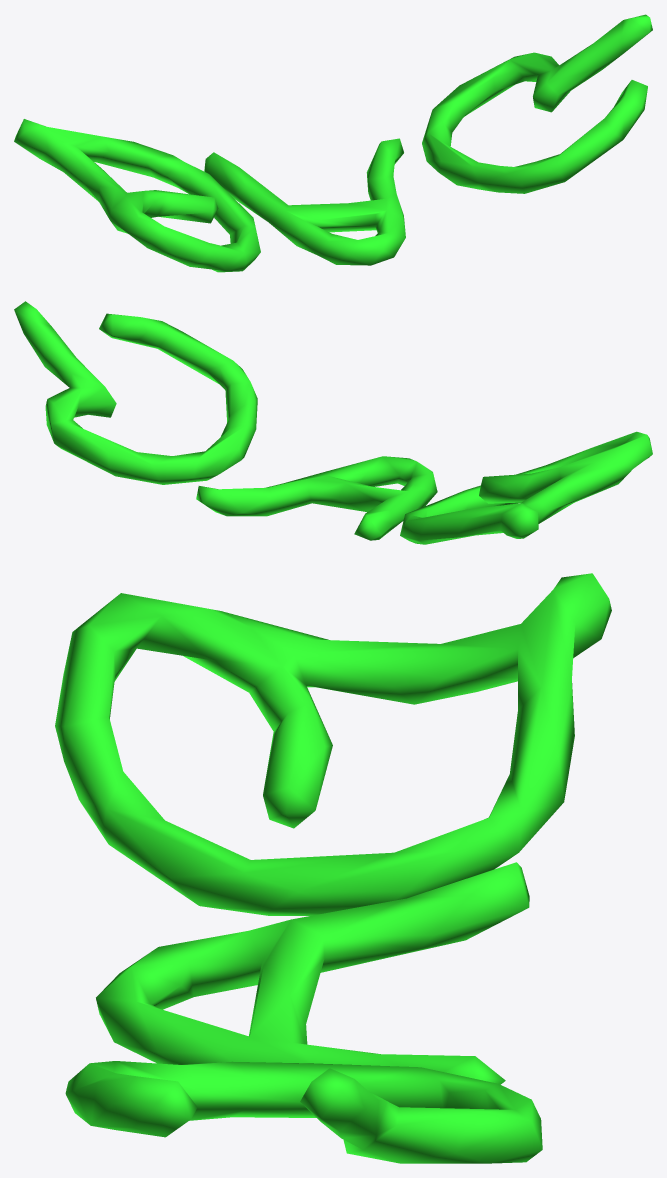
File: Dag.obj
3 renders of one model, top to bottom at view 1: azimuth 30°, elevation 25°; view 2: azimuth 150°, elevation 25°; view 3: azimuth 270°, elevation 25°, orthographic. The views are drawn at different scales.
Parts seen in each view (by area): view 1: Dag; view 2: Dag; view 3: Dag.
Boxes of the visible parts, x1,y1,x2,y2 form: Dag: [14, 14, 652, 272]; Dag: [14, 301, 652, 544]; Dag: [55, 573, 611, 1163].
Size of the model in its own units: 1 by 0.2307 by 0.4213.
